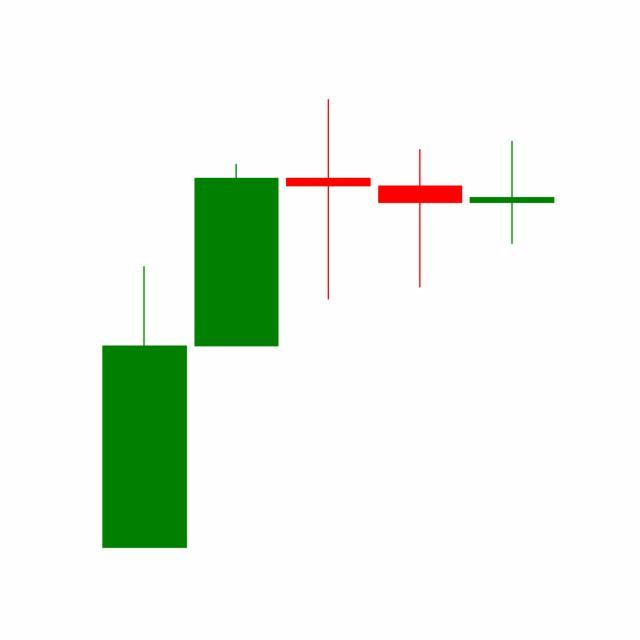Spinning Top: (466, 141, 559, 247)
